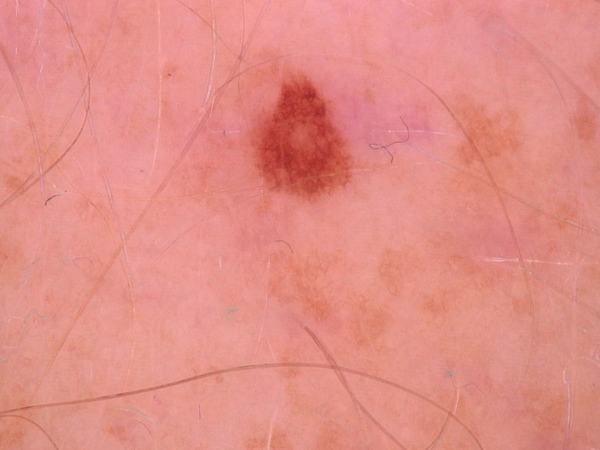Detected Lesion: (251, 62, 362, 201)
